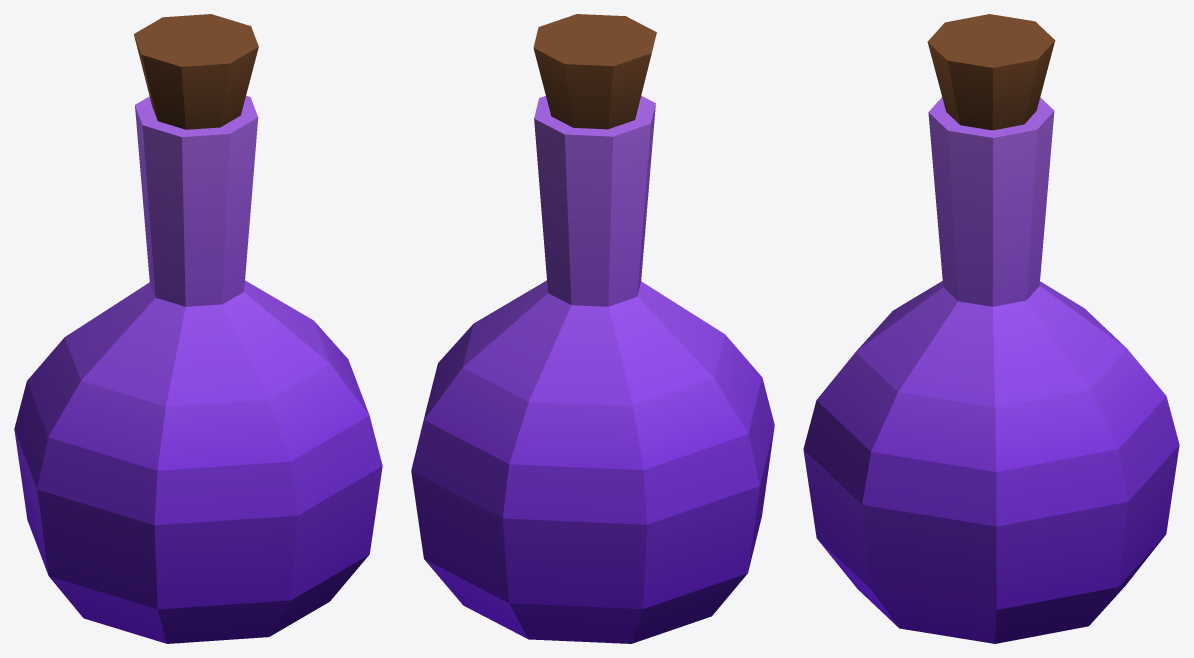
Rendered from potion_026_purple.fbx.
The picture shows the model from 3 angles, left to right: view 1: azimuth 30°, elevation 25°; view 2: azimuth 150°, elevation 25°; view 3: azimuth 270°, elevation 25°; orthographic projection.
Visible parts, largest first — view 1: potion_026_purple; view 2: potion_026_purple; view 3: potion_026_purple.
Part boxes in pixels (left/top/right/bottom): potion_026_purple: left=14, top=14, right=382, bottom=643; potion_026_purple: left=411, top=14, right=774, bottom=643; potion_026_purple: left=803, top=14, right=1179, bottom=643.
Bounding box in the file's own units: 0.1043 × 0.1668 × 0.1043.
